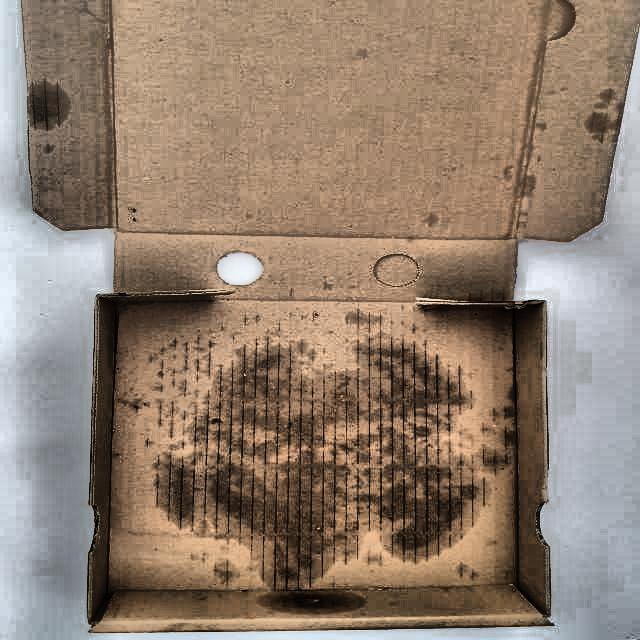cardboard: (17, 0, 640, 635)
